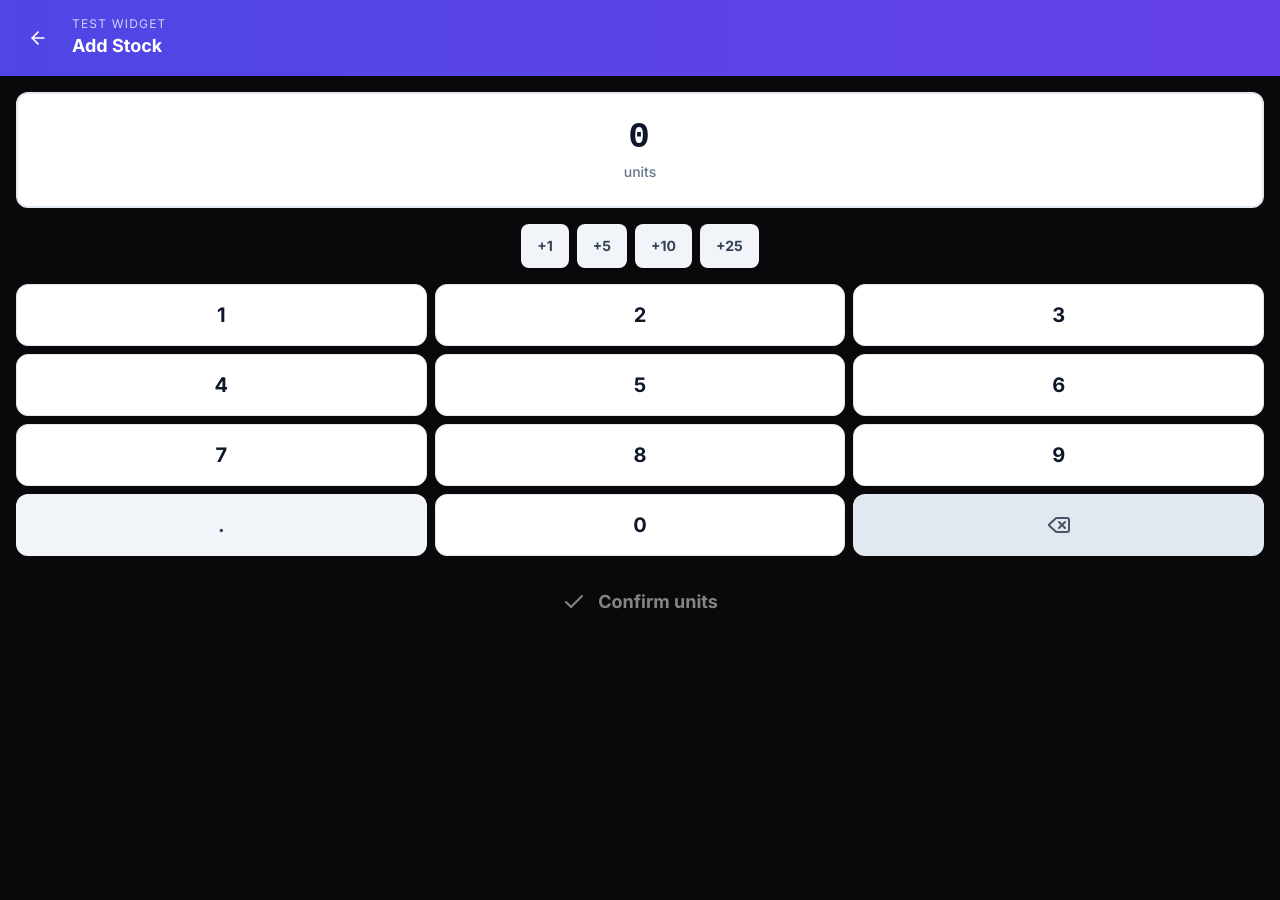
QuantityInput › replaces leading zero with first digit
The image size is (1280, 900).
Check: the text with test id "display-value" reads "0", box left=628, top=117, right=652, bottom=158
Click the button with test id "key-7" at coordinates (221, 455), box left=16, top=424, right=427, bottom=486
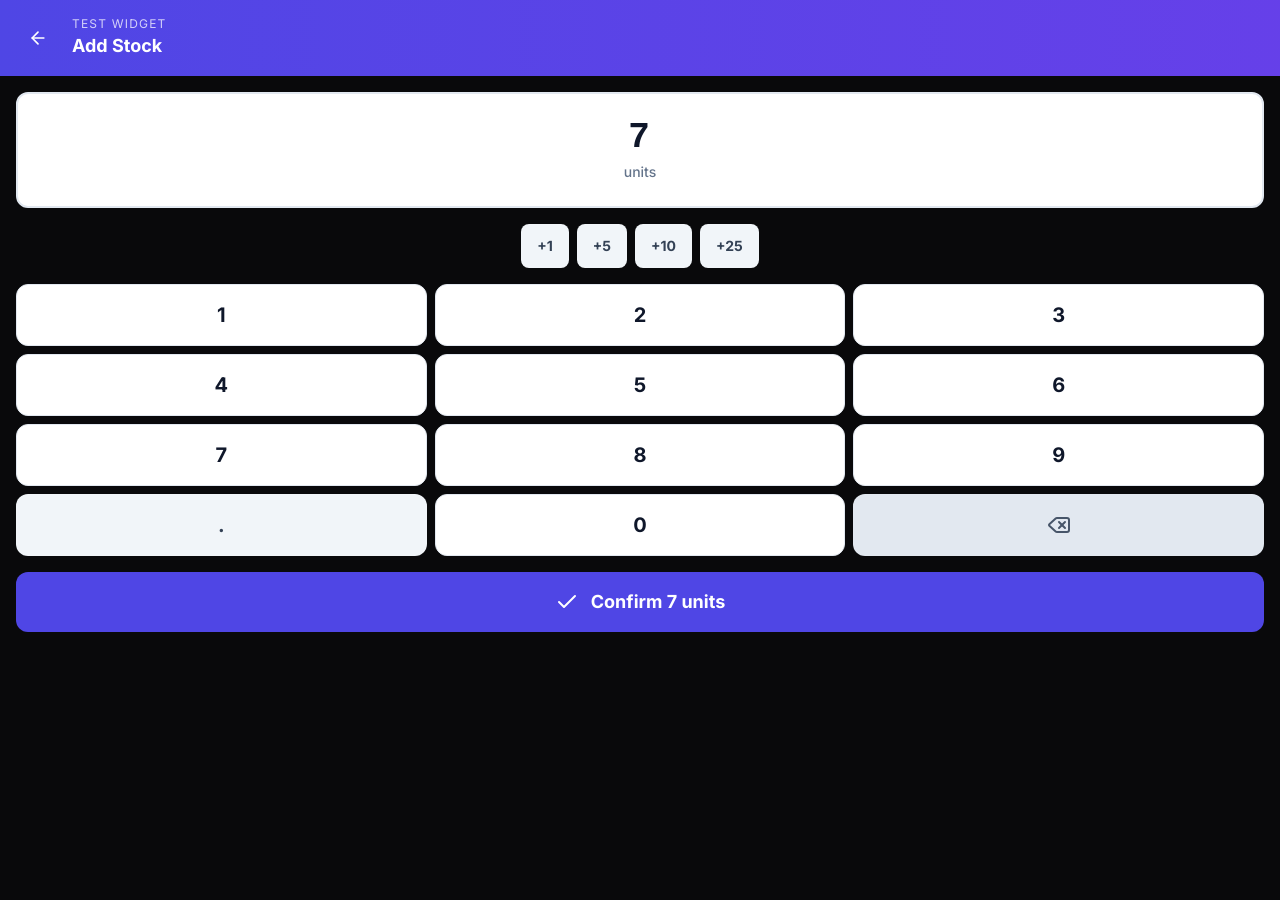
Check: the text with test id "display-value" reads "7", box left=628, top=117, right=652, bottom=158
